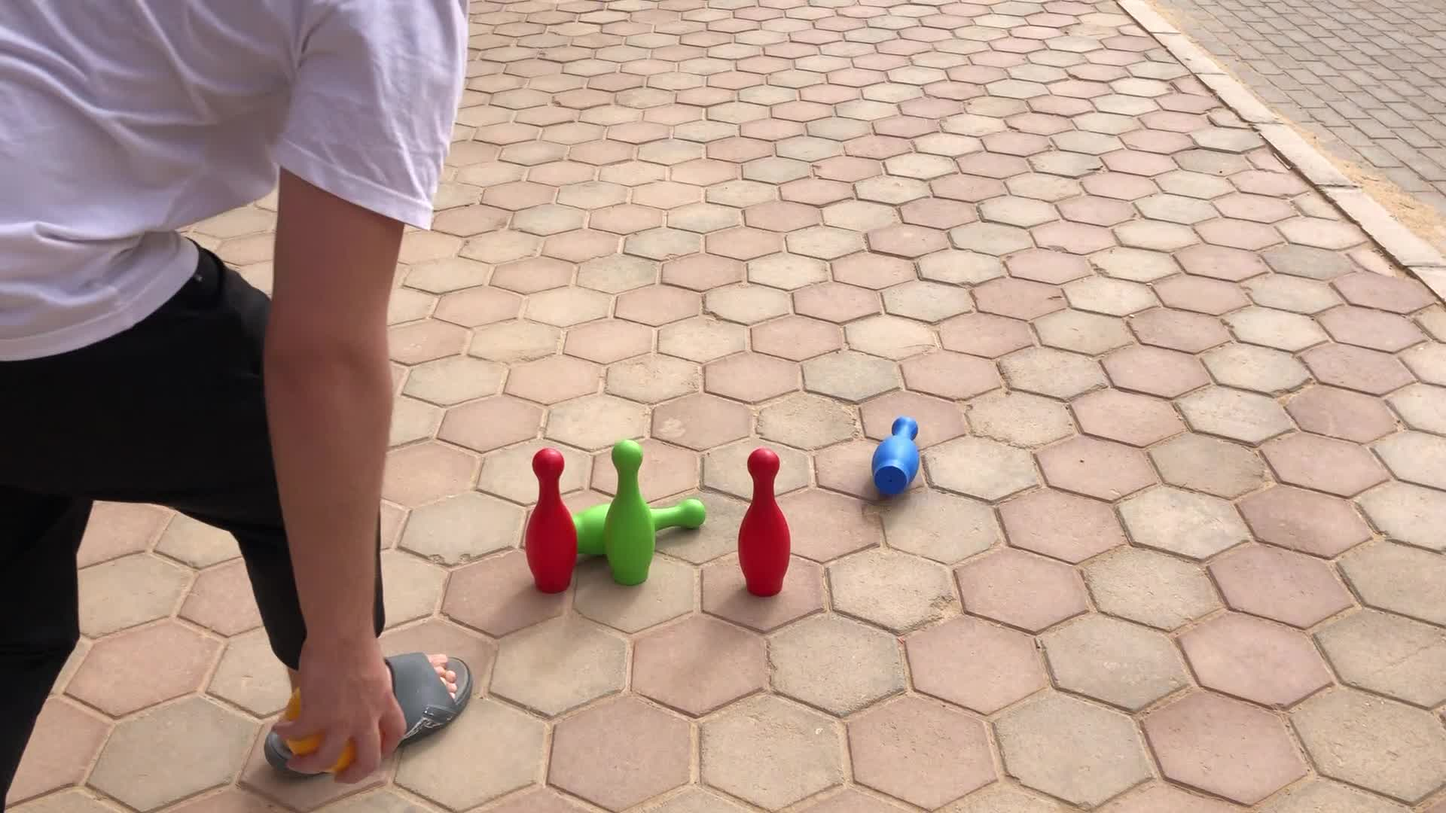pin: (739, 448, 790, 596), (526, 449, 578, 592), (604, 440, 655, 583), (873, 416, 918, 500)
